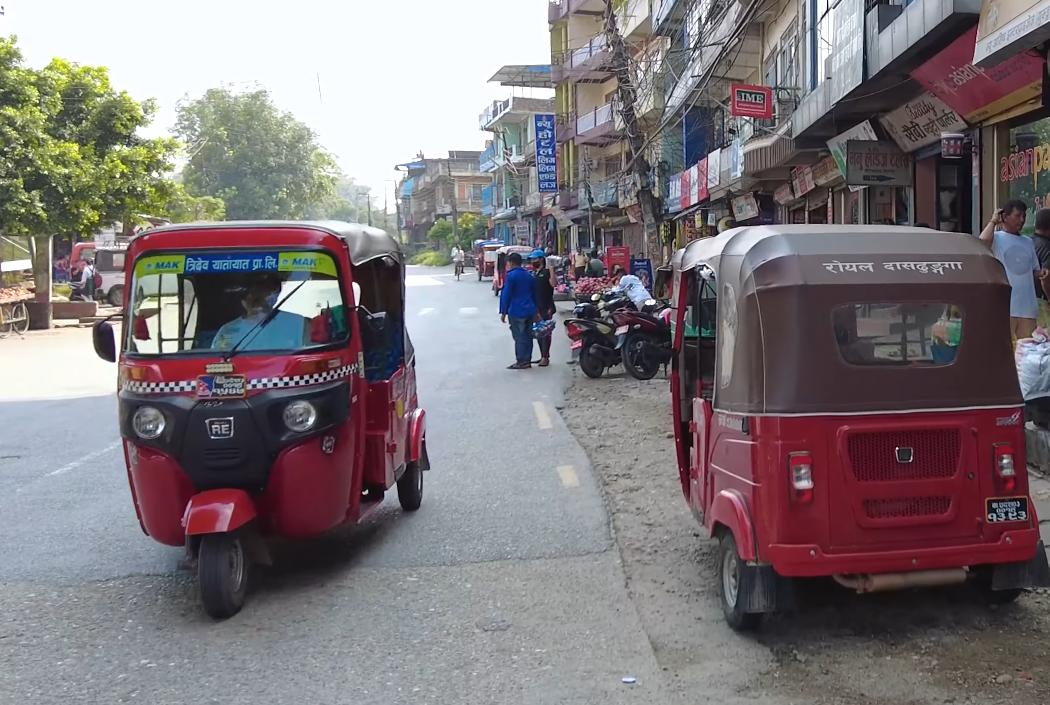auto_rickshaw: (652, 216, 1050, 640), (92, 212, 433, 627)
e-rickshaw: (472, 240, 502, 281)
scooter: (564, 308, 624, 383)
